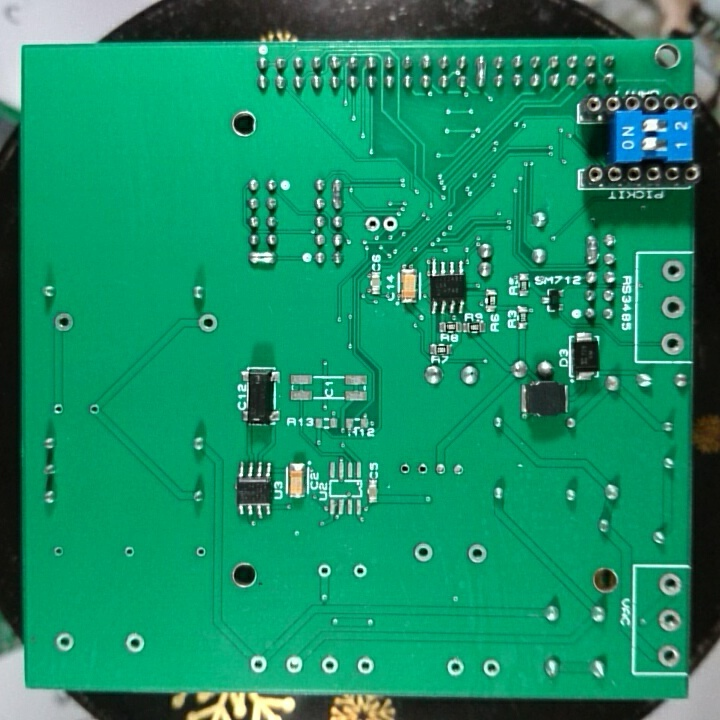F: (659, 292, 687, 323), (660, 256, 688, 286), (659, 329, 687, 358), (657, 571, 683, 600), (411, 539, 437, 567), (655, 643, 682, 669), (196, 310, 222, 337), (52, 310, 77, 338), (657, 608, 684, 633), (463, 540, 488, 566), (51, 631, 77, 654), (122, 632, 146, 656), (479, 657, 502, 681), (445, 655, 468, 679), (283, 652, 306, 676), (248, 652, 271, 675), (320, 653, 341, 678), (356, 653, 377, 677), (363, 213, 382, 236), (382, 212, 401, 235), (315, 561, 335, 581), (350, 561, 370, 581), (50, 400, 71, 419), (449, 460, 465, 482), (85, 400, 102, 420), (432, 460, 448, 479), (193, 543, 208, 563), (121, 543, 137, 559), (415, 461, 429, 479), (51, 542, 66, 558), (397, 461, 411, 477)
P: (245, 248, 279, 269), (330, 177, 346, 212), (474, 52, 488, 92), (584, 231, 600, 266)
